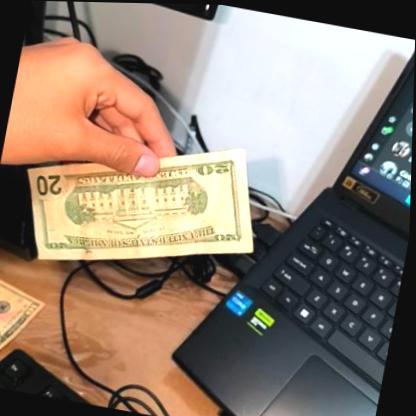ten-front: (0, 272, 50, 393)
twenty-back: (10, 103, 271, 296)
